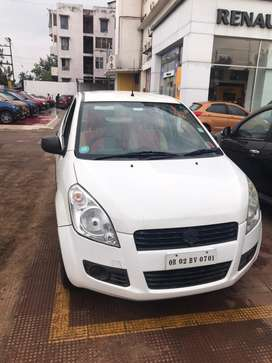OR02BV0701: (166, 248, 216, 270)
